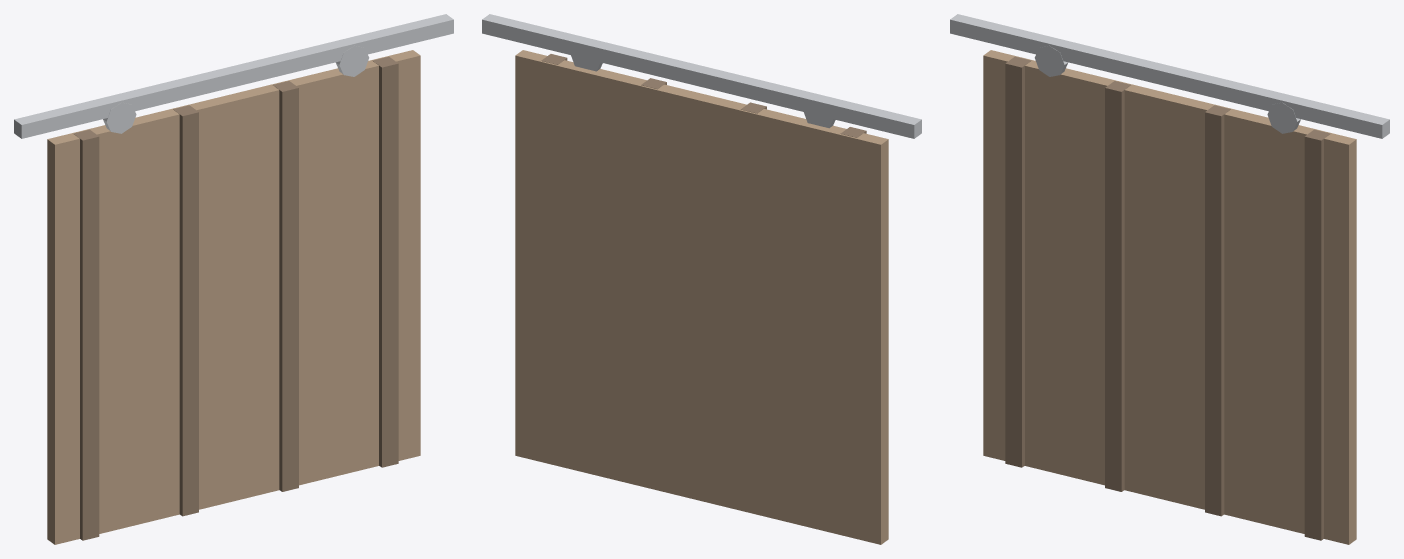
Rendered from sliding-door.glb.
3 renders of one model, left to right at view 1: azimuth 30°, elevation 25°; view 2: azimuth 150°, elevation 25°; view 3: azimuth 330°, elevation 25°, orthographic.
Visible parts, largest first — view 1: sliding-door; view 2: sliding-door; view 3: sliding-door.
Part boxes in pixels (x1,y1,x2,y2): sliding-door: (14,14,453,544); sliding-door: (482,14,921,544); sliding-door: (950,14,1389,544).
Bounding box in the file's own units: 2.6 × 2.46 × 0.11.
